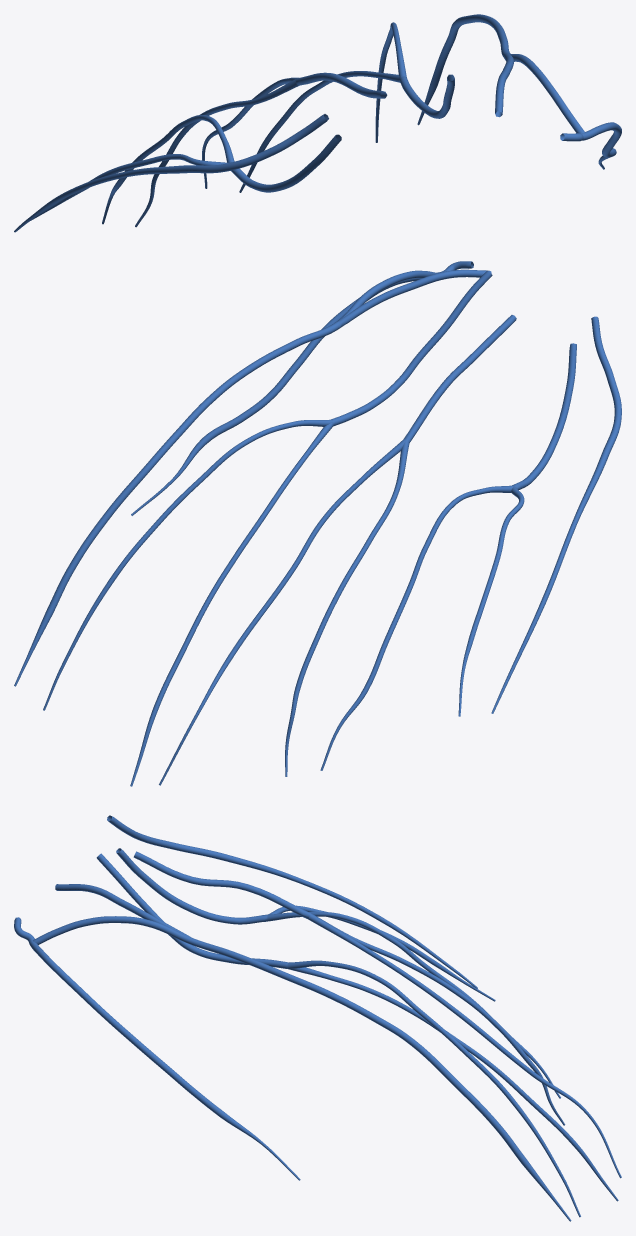
The picture shows the model from 3 angles, top to bottom: view 1: azimuth 30°, elevation 25°; view 2: azimuth 150°, elevation 25°; view 3: azimuth 270°, elevation 25°; orthographic projection. The views are drawn at different scales.
Parts seen in each view (by area): view 1: 左侧指掌侧静脉; view 2: 左侧指掌侧静脉; view 3: 左侧指掌侧静脉.
Boxes of the visible parts, left/top/right/bottom form: 左侧指掌侧静脉: left=14, top=14, right=621, bottom=232; 左侧指掌侧静脉: left=14, top=261, right=621, bottom=786; 左侧指掌侧静脉: left=14, top=815, right=621, bottom=1221.
Size of the model in its own units: 0.1472 by 0.1019 by 0.1806.
